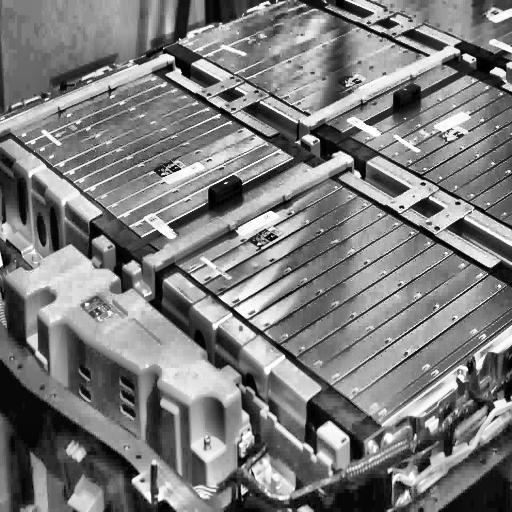battery_module: (151, 160, 512, 428), (1, 61, 294, 238), (179, 0, 459, 134), (350, 74, 512, 227)
busbar: (122, 147, 362, 299), (293, 45, 477, 156), (0, 51, 182, 140)
